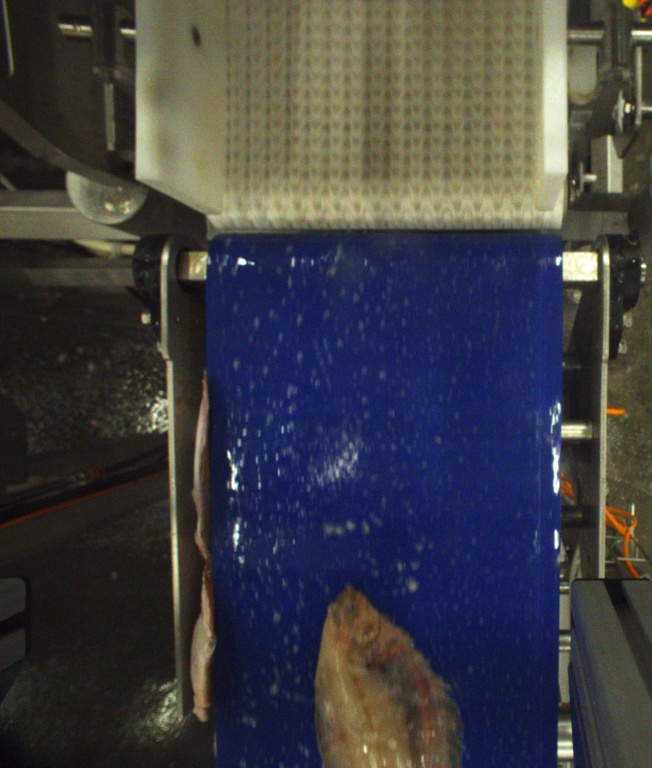WIT: (316, 584, 465, 768)
